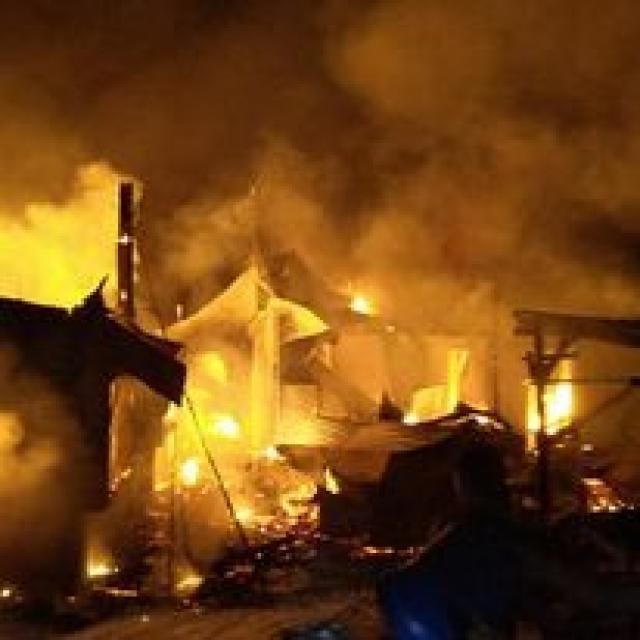Fire: (530, 359, 575, 437), (81, 540, 116, 589), (208, 408, 244, 438), (181, 454, 209, 491), (354, 286, 380, 324), (226, 496, 257, 526)
Smoke: (191, 0, 640, 352), (0, 162, 150, 309), (0, 414, 65, 506)
